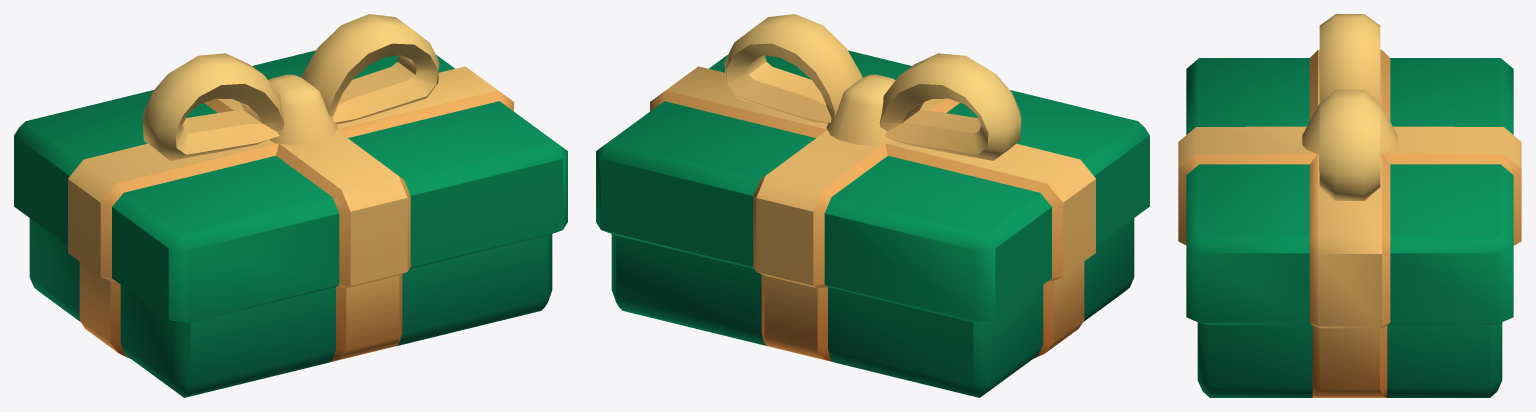
File: present_C_green.obj
3 views of the same model, side by side, from view 1: azimuth 30°, elevation 25°; view 2: azimuth 150°, elevation 25°; view 3: azimuth 270°, elevation 25° (orthographic). The views are drawn at different scales.
Visible parts, largest first — view 1: present_C_green; view 2: present_C_green; view 3: present_C_green.
Boxes of the visible parts, left/top/right/bottom form: present_C_green: left=14, top=14, right=567, bottom=397; present_C_green: left=596, top=14, right=1149, bottom=397; present_C_green: left=1178, top=14, right=1521, bottom=397.
Size of the model in its own units: 0.7638 by 0.4617 by 0.5638.
Materials: 1 (1 with a texture image).
